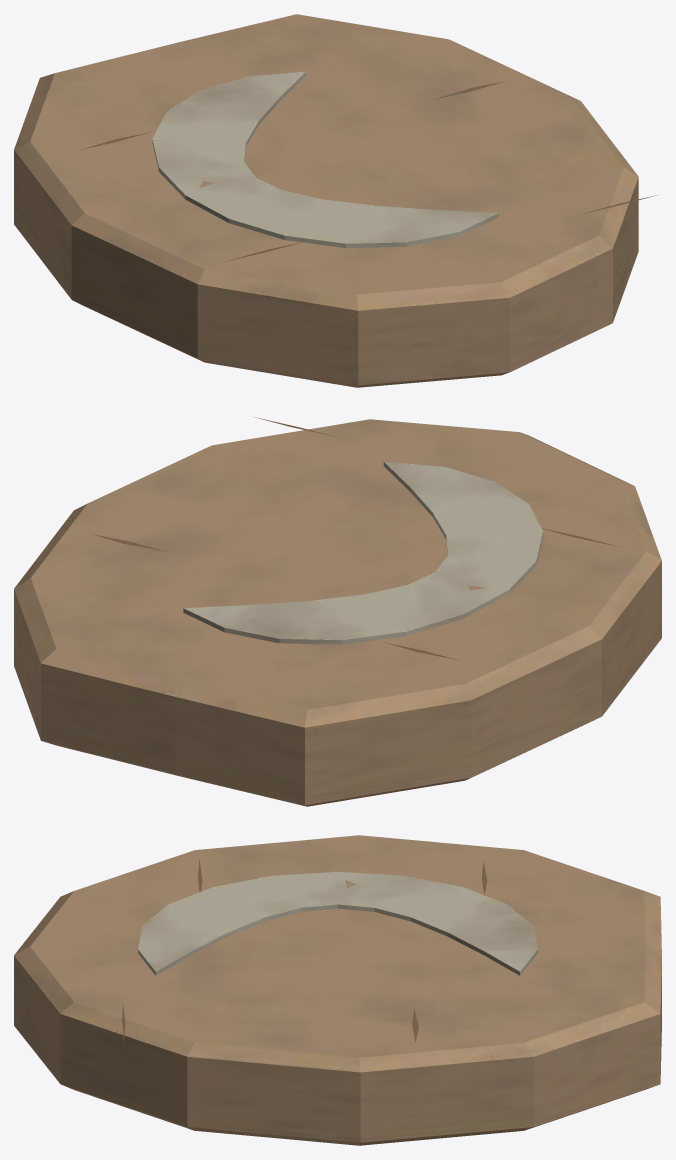
Rendered from P22_symbol_tokens_v2.glb.
3 renders of one model, top to bottom at view 1: azimuth 30°, elevation 25°; view 2: azimuth 150°, elevation 25°; view 3: azimuth 270°, elevation 25°, orthographic. The views are drawn at different scales.
Parts seen in each view (by area): view 1: Wooden_token; view 2: Wooden_token; view 3: Wooden_token.
Boxes of the visible parts, box(x1,y1,x2,y2) form: Wooden_token: box(14, 14, 659, 387); Wooden_token: box(14, 417, 661, 806); Wooden_token: box(14, 835, 661, 1145).
Bounding box in the file's own units: 0.0856 × 0.0157 × 0.1.
Materials: 3 (3 with a texture image).
